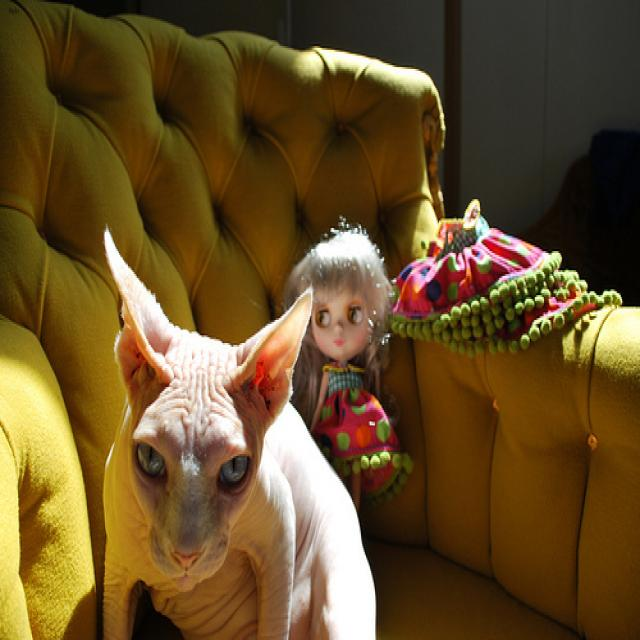cat: (101, 226, 311, 588)
